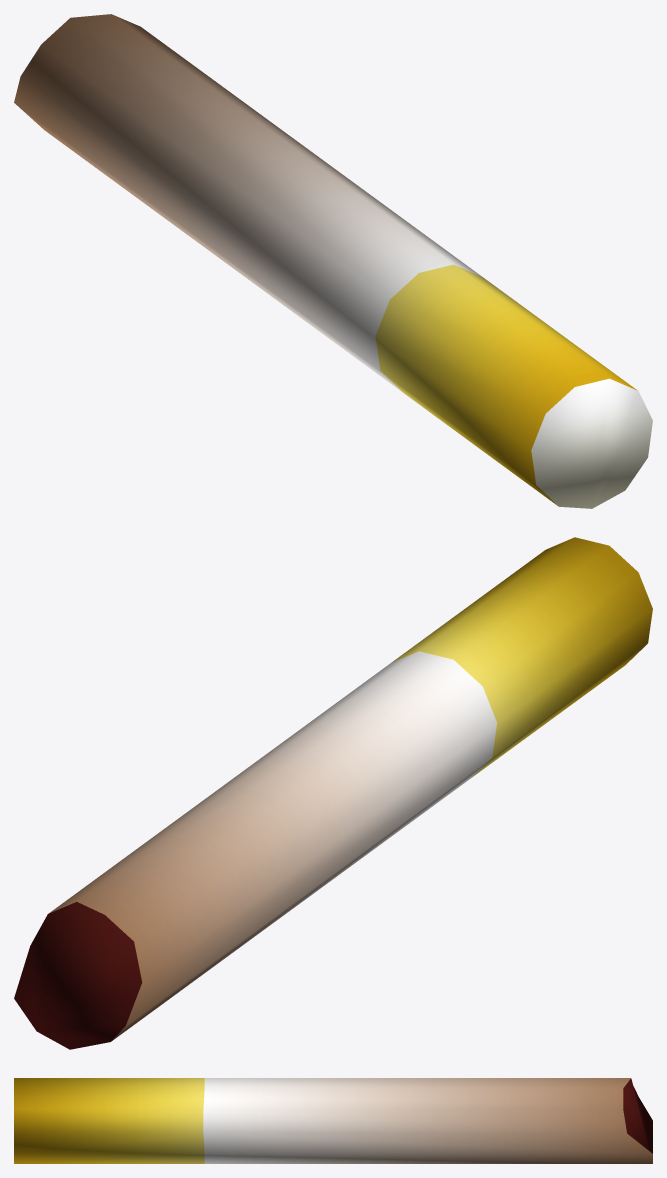
The model's file is Cig.fbx.
3 views of the same model, one above another, from view 1: azimuth 30°, elevation 25°; view 2: azimuth 150°, elevation 25°; view 3: azimuth 270°, elevation 25° (orthographic). The views are drawn at different scales.
Parts seen in each view (by area): view 1: Cig; view 2: Cig; view 3: Cig.
Boxes of the visible parts, x1=… form: Cig: x1=14, y1=14, x2=652, y2=508; Cig: x1=14, y1=537, x2=652, y2=1049; Cig: x1=14, y1=1078, x2=652, y2=1163.
Size of the model in its own units: 4.97 by 4.92 by 36.95.
